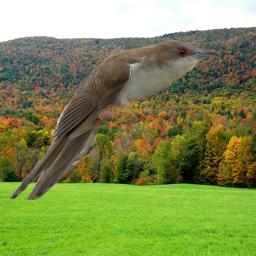Cuckoo: (9, 40, 221, 200)
